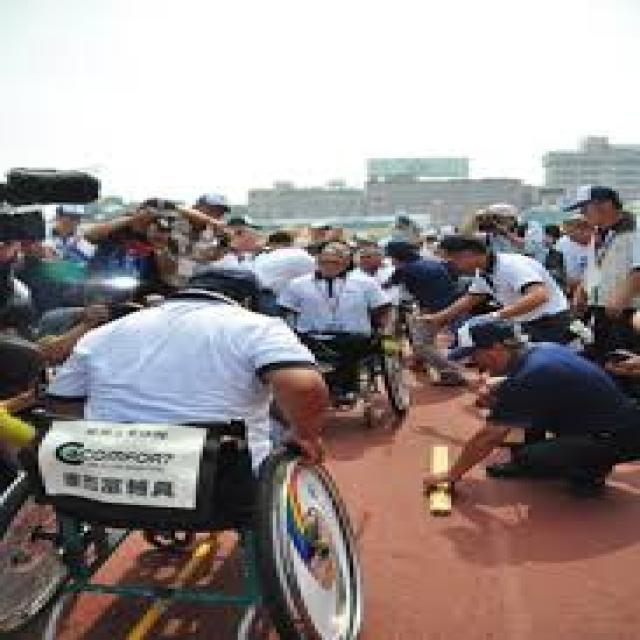wheelchairs: (0, 407, 385, 638)
